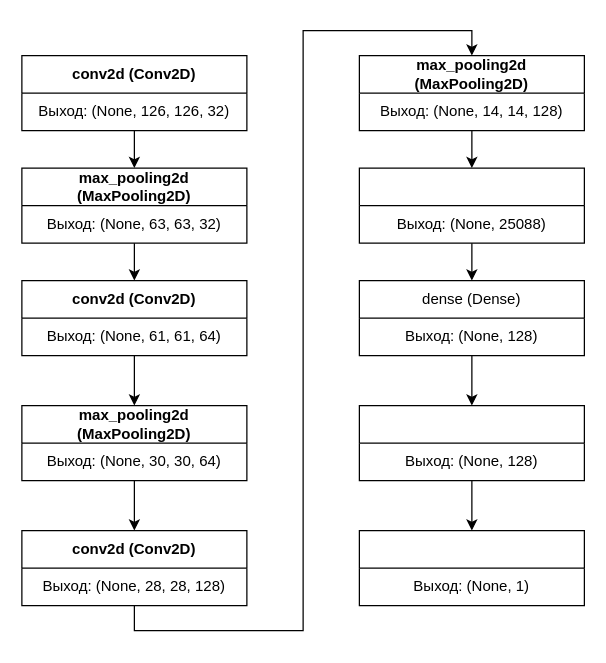
The diagram is 606 pixels wide and 663 high, and some of its shapes have lost their labels. Here are the shapes that lost their labels. From the top down, the box of each, then its label:
(358, 167, 584, 243): flatten (Flatten)
(358, 404, 584, 481): dropout (Dropout)
(358, 529, 584, 606): dense_1 (Dense)
